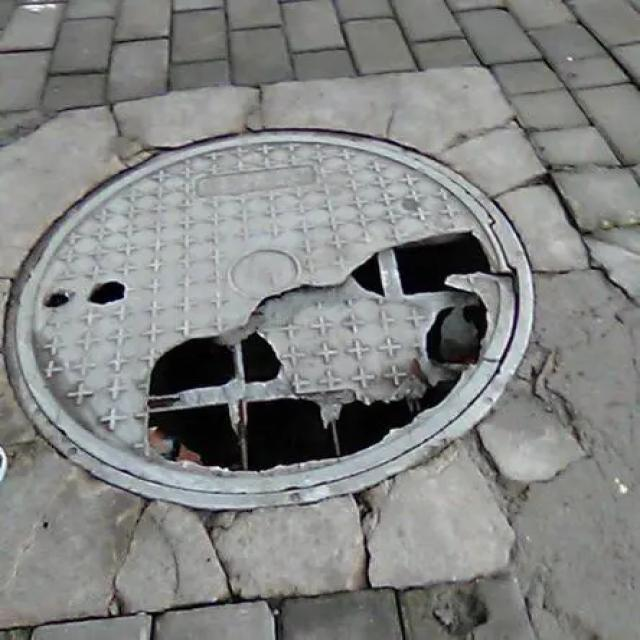manhole: (6, 130, 534, 508)
